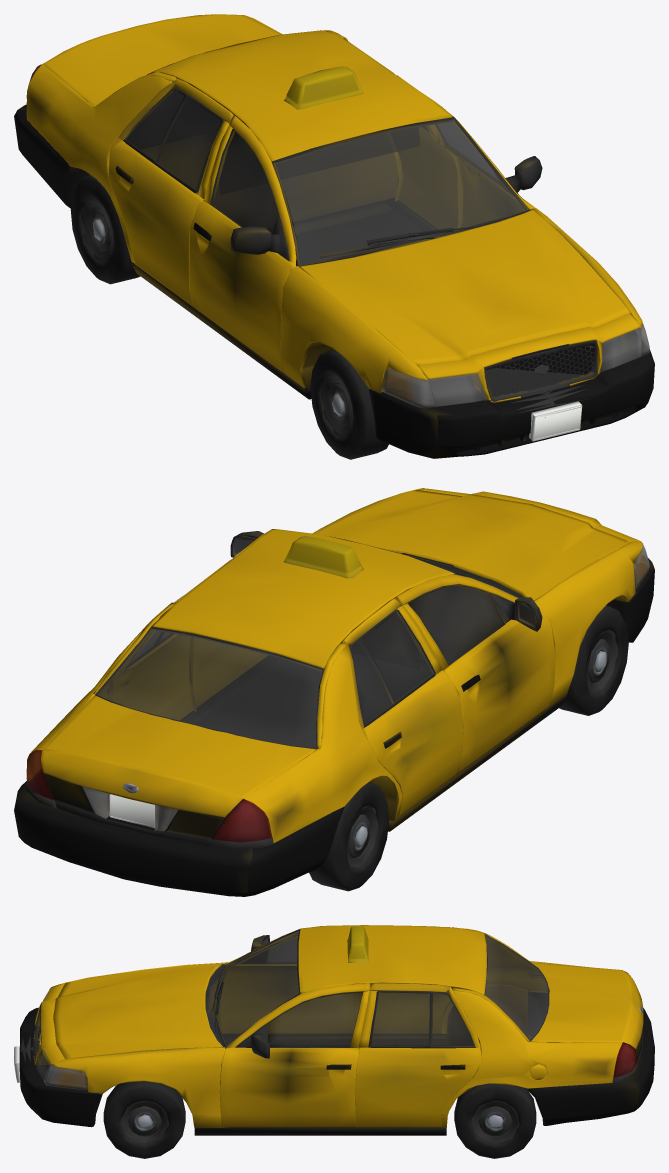
3 renders of one model, top to bottom at view 1: azimuth 30°, elevation 25°; view 2: azimuth 150°, elevation 25°; view 3: azimuth 270°, elevation 25°, orthographic. The views are drawn at different scales.
Visible parts, largest first — view 1: body, glass, wheel_FL, wheel_RL; view 2: body, glass, wheel_RL, wheel_FL; view 3: body, glass, wheel_FR, wheel_RR.
Boxes of the visible parts, x1=… form: body: x1=14, y1=14, x2=654, y2=458; glass: x1=26, y1=50, x2=649, y2=408; wheel_FL: x1=310, y1=349, x2=388, y2=459; wheel_RL: x1=70, y1=175, x2=140, y2=284; body: x1=14, y1=488, x2=654, y2=896; glass: x1=26, y1=544, x2=649, y2=842; wheel_RL: x1=309, y1=781, x2=389, y2=891; wheel_FL: x1=559, y1=605, x2=628, y2=715; body: x1=14, y1=925, x2=654, y2=1135; glass: x1=35, y1=930, x2=636, y2=1090; wheel_FR: x1=103, y1=1081, x2=185, y2=1158; wheel_RR: x1=454, y1=1083, x2=536, y2=1158.
Bounding box in the file's own units: 2.18 × 1.66 × 5.39.
